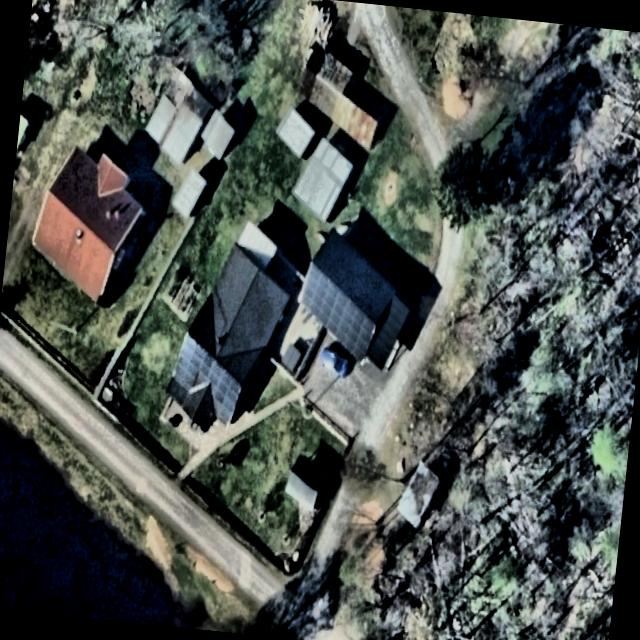roof_pv: (332, 293, 376, 363), (298, 269, 341, 326), (207, 354, 241, 420), (174, 334, 214, 388)
